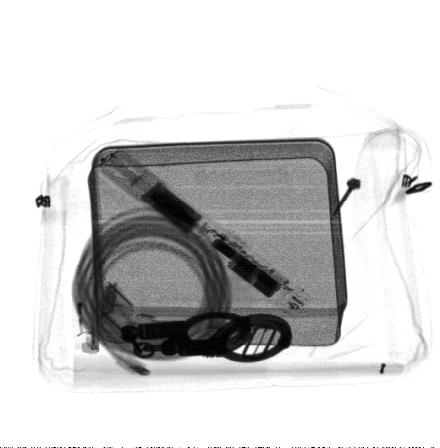Baton: (95, 146, 313, 318)
HandCuffs: (119, 310, 296, 364)
Lighter: (78, 279, 100, 354)
